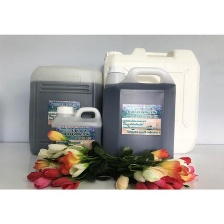cleaning_solution: (101, 47, 203, 156), (100, 62, 178, 166), (26, 63, 105, 158), (48, 103, 104, 171)
